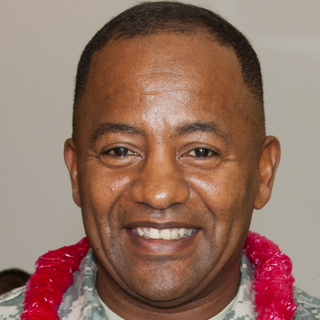eye: (177, 140, 226, 165), (96, 140, 143, 165)
